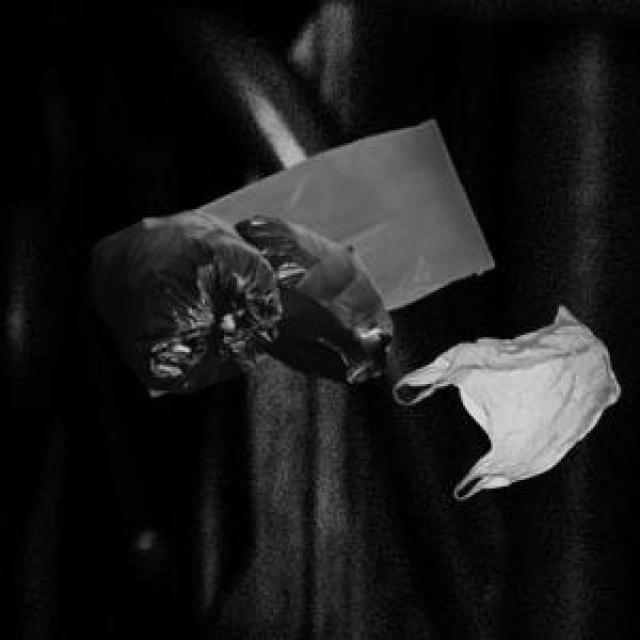miscellaneous trash: (88, 207, 388, 388), (390, 303, 614, 493)
